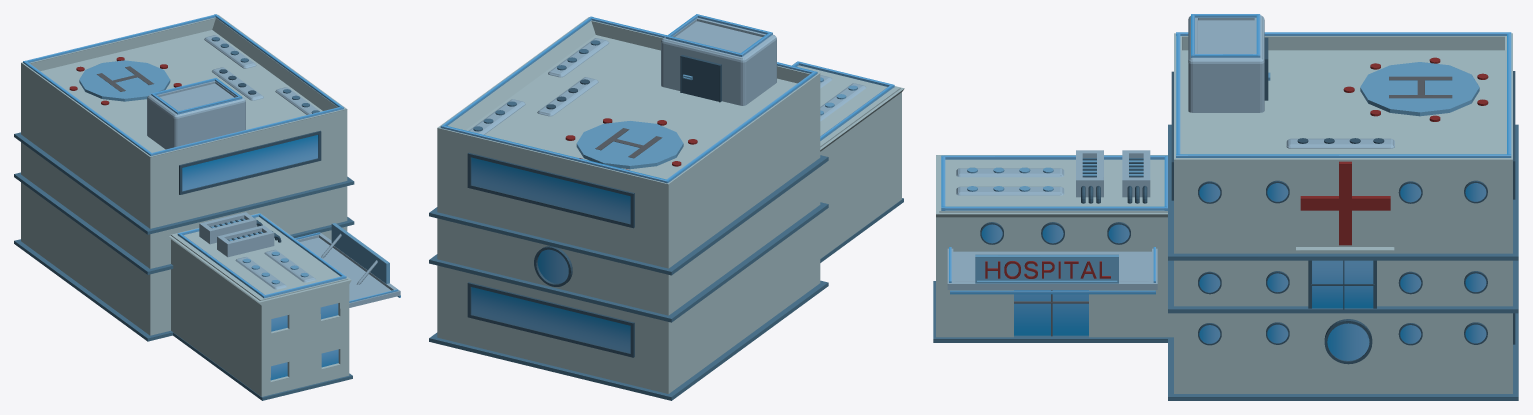
File: Hospital.glb
3 renders of one model, left to right at view 1: azimuth 30°, elevation 25°; view 2: azimuth 150°, elevation 25°; view 3: azimuth 270°, elevation 25°, orthographic. The views are drawn at different scales.
Parts seen in each view (by area): view 1: Node; view 2: Node; view 3: Node.
Boxes of the visible parts, left/top/right/bottom form: Node: left=14, top=14, right=400, bottom=400; Node: left=429, top=14, right=904, bottom=400; Node: left=933, top=14, right=1518, bottom=400.
Size of the model in its own units: 334 by 329 by 625.
1 material, 1 textured.
